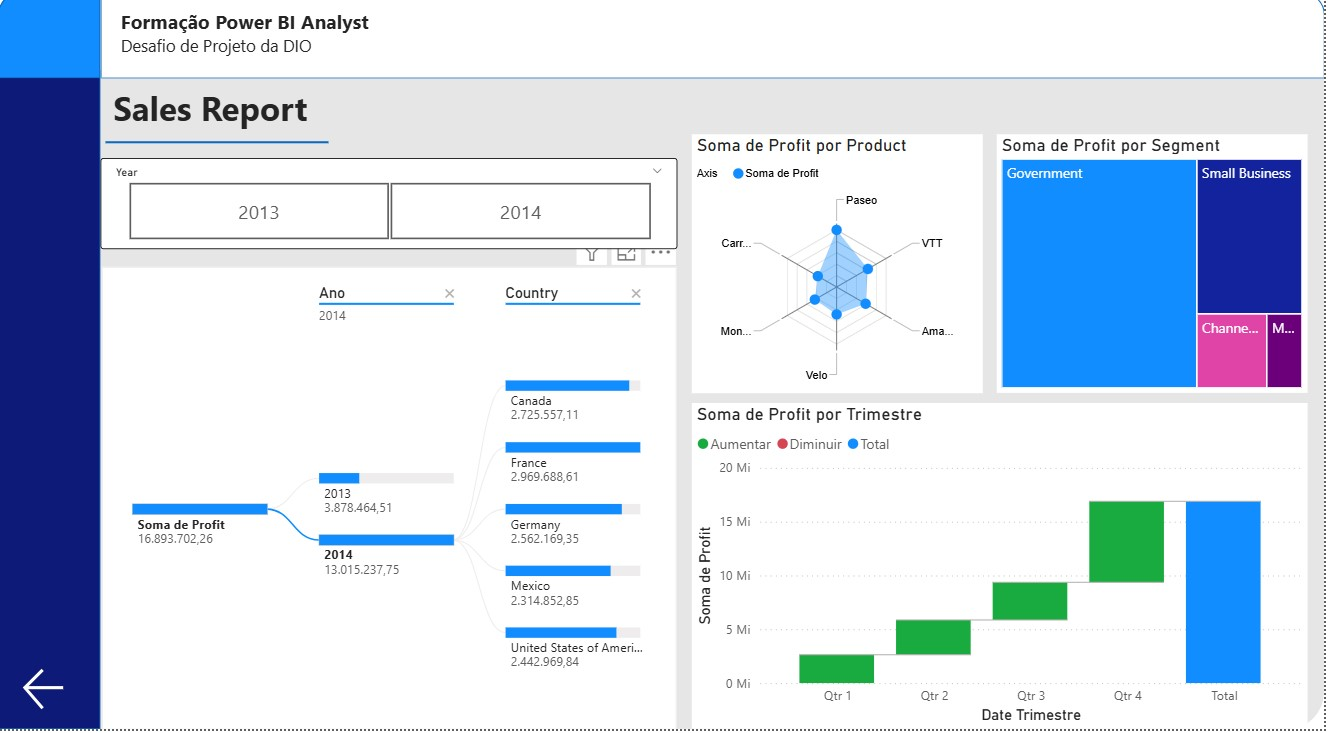

This screenshot's page, from the dashboard's own definition file:
{"tool":"powerbi","page":{"name":"Página 2","canvas":[1280,720],"ordinal":1},"visuals":[{"type":"shape","box":[0,9.2,1279.8,710.5],"z":0},{"type":"shape","box":[104.1,106.9,215.2,92.7],"z":0,"group":"g3"},{"type":"shape","box":[0,9.7,98.9,710.6],"z":1000},{"type":"textbox","box":[107,94.1,300.8,58.4],"z":1000,"group":"g3"},{"type":"shape","box":[0,9.6,98.8,82.3],"z":2000},{"type":"shape","box":[98.4,10,1181.6,82.7],"z":3000},{"type":"textbox","box":[113.9,19.2,286.8,63.1],"z":4000},{"type":"group","id":"g1","title":"Sales x País","box":[882.1,498.1,382.6,221.2],"z":5000},{"type":"group","id":"g2","title":"Sales x Segmento","box":[106.9,497.5,373.5,222.4],"z":6000},{"type":"group","id":"g3","title":"Title Report","box":[104.1,94.1,303.6,105.5],"z":7000},{"type":"actionButton","box":[19.5,655.9,78.2,50.2],"z":8000},{"type":"decompositionTreeVisual","fields":{"Analyze":["Sum(financials.Profit)"],"ExplainBy":["financials.Date.Variation.Hierarquia de datas.Ano","financials.Country"]},"box":[100,273.8,555.3,446.1],"z":9000},{"type":"slicer","fields":{"Values":["financials.Year"]},"box":[98.4,169.2,556.8,87.7],"z":10000},{"type":"waterfallChart","fields":{"Category":["financials.Date.Variation.Hierarquia de datas.Trimestre"],"Y":["Sum(financials.Profit)"]},"box":[670,405.6,594.1,314.1],"z":11000},{"type":"treemap","fields":{"Group":["financials.Segment"],"Values":["Sum(financials.Profit)"]},"box":[964.4,146.6,299.7,249.9],"z":12000},{"type":"RadarChart1446119667547","fields":{"Category":["financials.Product"],"Y":["Sum(financials.Profit)"]},"box":[670,146.6,280,249.9],"z":13000}]}

Visuals, with their boxes on the page's 1280x720 design canvas (x1, y1, x2, y2). These are canvas units, not pixel positions in the 1331x733 screenshot, which may show the page scaled, cropped or inside an application window:
shape: (x1=0, y1=9, x2=1280, y2=720)
shape: (x1=104, y1=107, x2=319, y2=200)
shape: (x1=0, y1=10, x2=99, y2=720)
textbox: (x1=107, y1=94, x2=408, y2=152)
shape: (x1=0, y1=10, x2=99, y2=92)
shape: (x1=98, y1=10, x2=1280, y2=93)
textbox: (x1=114, y1=19, x2=401, y2=82)
"Sales x País" group: (x1=882, y1=498, x2=1265, y2=719)
"Sales x Segmento" group: (x1=107, y1=498, x2=480, y2=720)
"Title Report" group: (x1=104, y1=94, x2=408, y2=200)
actionButton: (x1=20, y1=656, x2=98, y2=706)
decompositionTreeVisual - Sum(financials.Profit) x financials.Date.Variation.Hierarquia de datas.Ano: (x1=100, y1=274, x2=655, y2=720)
slicer - financials.Year: (x1=98, y1=169, x2=655, y2=257)
waterfallChart - financials.Date.Variation.Hierarquia de datas.Trimestre x Sum(financials.Profit): (x1=670, y1=406, x2=1264, y2=720)
treemap - financials.Segment x Sum(financials.Profit): (x1=964, y1=147, x2=1264, y2=396)
RadarChart1446119667547 - financials.Product x Sum(financials.Profit): (x1=670, y1=147, x2=950, y2=396)
